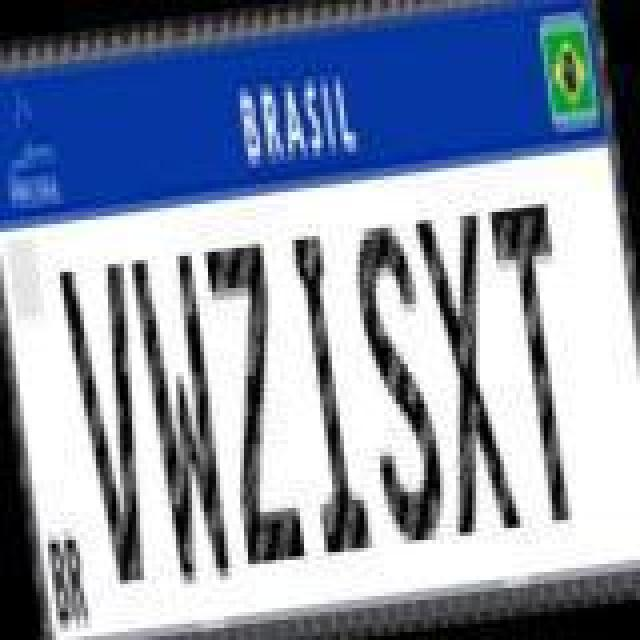I: (280, 226, 376, 558)
S: (346, 218, 454, 550)
T: (488, 198, 592, 530)
V: (56, 258, 168, 590)
W: (128, 244, 240, 588)
X: (412, 210, 524, 542)
Z: (202, 242, 310, 574)
